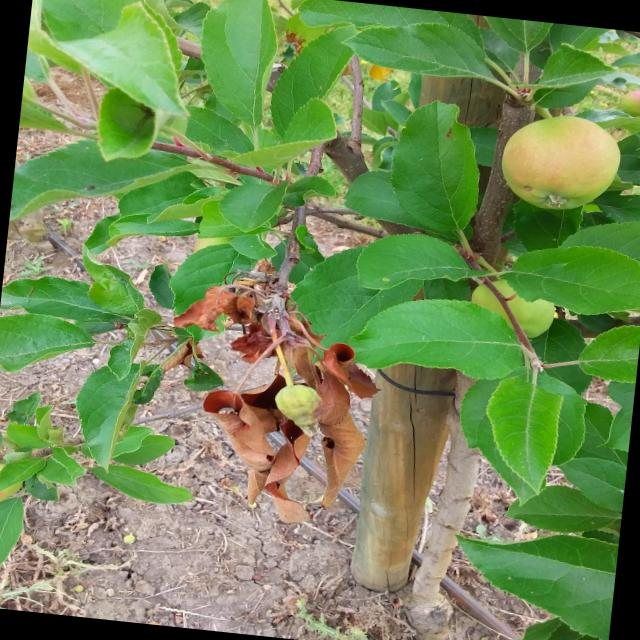-FireBlight-: (158, 250, 385, 528)
